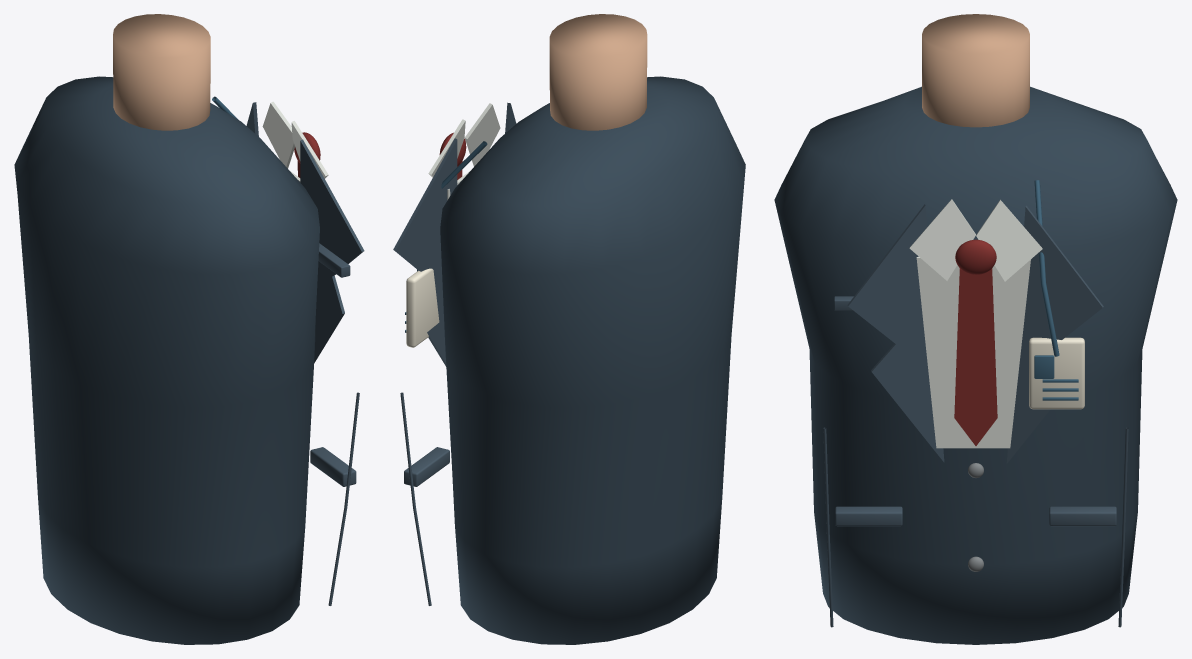
Rendered from SM_Teacher_Torso.glb.
The picture shows the model from 3 angles, left to right: view 1: azimuth 30°, elevation 25°; view 2: azimuth 150°, elevation 25°; view 3: azimuth 270°, elevation 25°; orthographic projection.
Parts seen in each view (by area): view 1: SM_Teacher_Torso; view 2: SM_Teacher_Torso; view 3: SM_Teacher_Torso.
Boxes of the visible parts, left/top/right/bottom form: SM_Teacher_Torso: left=14, top=14, right=364, bottom=644; SM_Teacher_Torso: left=393, top=14, right=745, bottom=644; SM_Teacher_Torso: left=774, top=14, right=1177, bottom=644.
Bounding box in the file's own units: 0.342 × 0.68 × 0.448.
